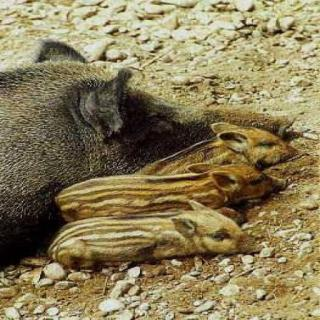Pig: (0, 52, 306, 216), (67, 206, 257, 283), (65, 168, 297, 224), (140, 120, 308, 174)
